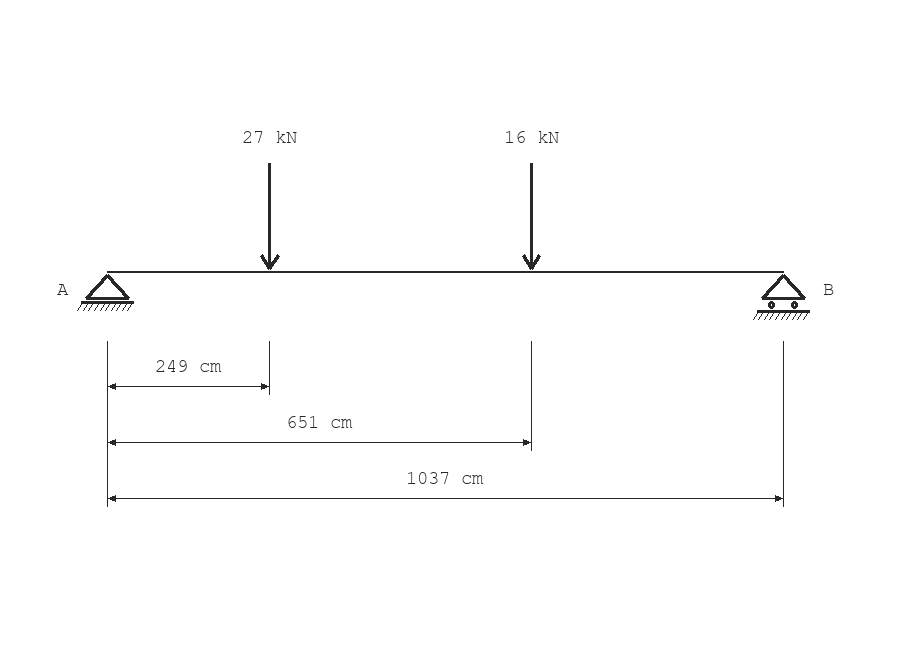pin_support: (77, 274, 134, 311)
point_load: (260, 163, 280, 270), (522, 163, 541, 270)
roller_support: (753, 274, 810, 320)
